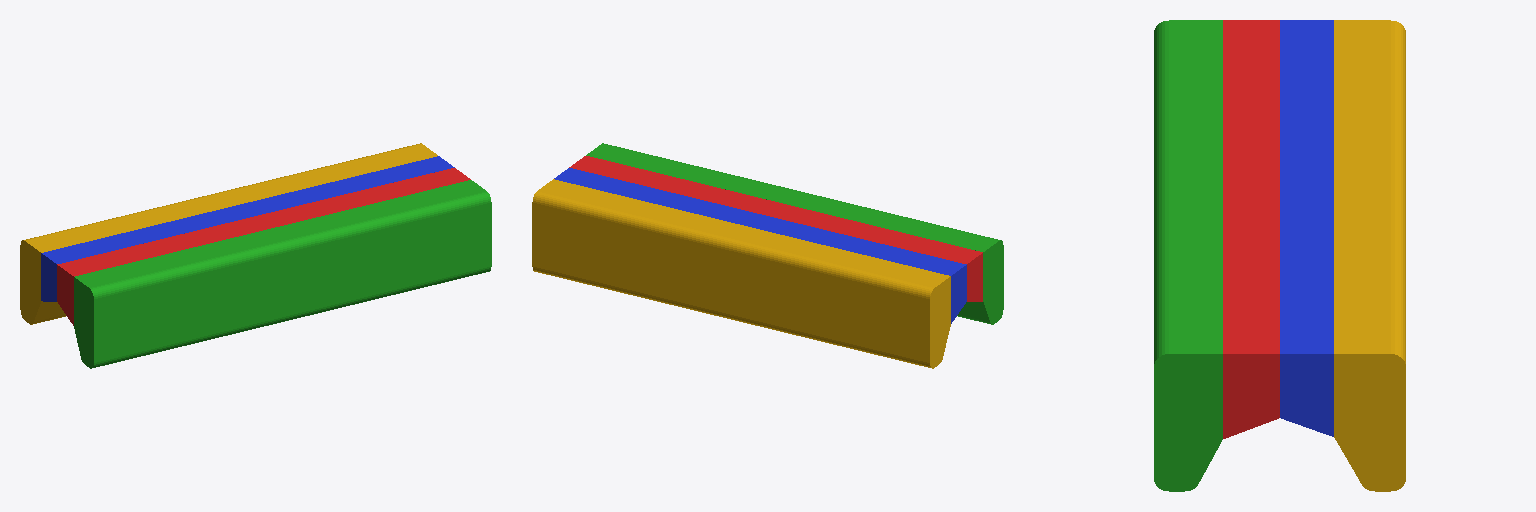
robot.urdf — peg_36_coacd:
<?xml version="1.0" encoding="utf-8"?>
<robot name="peg_36_coacd">
  <link name="base_link">
    <inertial>
      <mass value="0.05"/>
      <inertia ixx="1e-5" ixy="0" ixz="0" iyy="1e-5" iyz="0" izz="1e-5"/>
    </inertial>
  </link>
  <material name="color_0">
    <color rgba="0.9 0.2 0.2 1.0"/>
  </material>
  <link name="hull_0">
    <inertial>
      <mass value="0.001"/>
      <inertia ixx="1e-6" ixy="0" ixz="0" iyy="1e-6" iyz="0" izz="1e-6"/>
    </inertial>
    <visual>
      <origin xyz="0 0 0" rpy="0 0 0"/>
      <geometry>
        <mesh filename="decomp_0.obj" scale="1 1 1"/>
      </geometry>
      <material name="color_0"/>
    </visual>
    <collision>
      <origin xyz="0 0 0" rpy="0 0 0"/>
      <geometry>
        <mesh filename="decomp_0.obj" scale="1 1 1"/>
      </geometry>
    </collision>
  </link>
  <joint name="hull_joint_0" type="fixed">
    <parent link="base_link"/>
    <child link="hull_0"/>
    <origin xyz="0 0 0" rpy="0 0 0"/>
  </joint>
  <material name="color_1">
    <color rgba="0.2 0.7 0.2 1.0"/>
  </material>
  <link name="hull_1">
    <inertial>
      <mass value="0.001"/>
      <inertia ixx="1e-6" ixy="0" ixz="0" iyy="1e-6" iyz="0" izz="1e-6"/>
    </inertial>
    <visual>
      <origin xyz="0 0 0" rpy="0 0 0"/>
      <geometry>
        <mesh filename="decomp_1.obj" scale="1 1 1"/>
      </geometry>
      <material name="color_1"/>
    </visual>
    <collision>
      <origin xyz="0 0 0" rpy="0 0 0"/>
      <geometry>
        <mesh filename="decomp_1.obj" scale="1 1 1"/>
      </geometry>
    </collision>
  </link>
  <joint name="hull_joint_1" type="fixed">
    <parent link="base_link"/>
    <child link="hull_1"/>
    <origin xyz="0 0 0" rpy="0 0 0"/>
  </joint>
  <material name="color_2">
    <color rgba="0.2 0.3 0.9 1.0"/>
  </material>
  <link name="hull_2">
    <inertial>
      <mass value="0.001"/>
      <inertia ixx="1e-6" ixy="0" ixz="0" iyy="1e-6" iyz="0" izz="1e-6"/>
    </inertial>
    <visual>
      <origin xyz="0 0 0" rpy="0 0 0"/>
      <geometry>
        <mesh filename="decomp_2.obj" scale="1 1 1"/>
      </geometry>
      <material name="color_2"/>
    </visual>
    <collision>
      <origin xyz="0 0 0" rpy="0 0 0"/>
      <geometry>
        <mesh filename="decomp_2.obj" scale="1 1 1"/>
      </geometry>
    </collision>
  </link>
  <joint name="hull_joint_2" type="fixed">
    <parent link="base_link"/>
    <child link="hull_2"/>
    <origin xyz="0 0 0" rpy="0 0 0"/>
  </joint>
  <material name="color_3">
    <color rgba="0.9 0.7 0.1 1.0"/>
  </material>
  <link name="hull_3">
    <inertial>
      <mass value="0.001"/>
      <inertia ixx="1e-6" ixy="0" ixz="0" iyy="1e-6" iyz="0" izz="1e-6"/>
    </inertial>
    <visual>
      <origin xyz="0 0 0" rpy="0 0 0"/>
      <geometry>
        <mesh filename="decomp_3.obj" scale="1 1 1"/>
      </geometry>
      <material name="color_3"/>
    </visual>
    <collision>
      <origin xyz="0 0 0" rpy="0 0 0"/>
      <geometry>
        <mesh filename="decomp_3.obj" scale="1 1 1"/>
      </geometry>
    </collision>
  </link>
  <joint name="hull_joint_3" type="fixed">
    <parent link="base_link"/>
    <child link="hull_3"/>
    <origin xyz="0 0 0" rpy="0 0 0"/>
  </joint>
</robot>

--- Render facts (derived) ---
3 views of the same robot in one strip: view 1: azimuth 30°, elevation 25°; view 2: azimuth 150°, elevation 25°; view 3: azimuth 270°, elevation 25° (orthographic).
Model peg_36_coacd with 5 links and 4 joints (4 fixed), rooted at base_link, posed all joints at 0.
Links seen in each view (by area): view 1: hull_1, hull_3, hull_0, hull_2; view 2: hull_3, hull_1, hull_0, hull_2; view 3: hull_3, hull_1, hull_0, hull_2.
Boxes of the visible links, x1,y1,x2,y2 form: hull_1: (74,180,491,368); hull_3: (20,143,437,324); hull_0: (57,168,470,325); hull_2: (41,156,454,301); hull_3: (532,179,950,368); hull_1: (586,143,1003,324); hull_0: (569,156,982,301); hull_2: (554,168,966,323); hull_3: (1334,20,1405,491); hull_1: (1154,20,1222,491); hull_0: (1223,20,1279,438); hull_2: (1280,20,1333,436).
Size in the robot's own frame: 0.15 by 0.048 by 0.0288 metres.
4 mesh visuals loaded from 4 distinct referenced files (4 OBJ).
